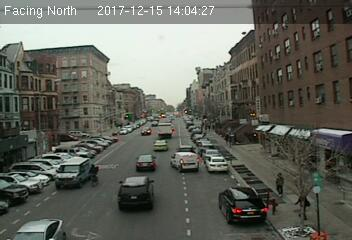bicycle: (89, 164, 100, 187)
car: (218, 186, 268, 226), (4, 218, 65, 240), (117, 176, 155, 207), (171, 151, 198, 169), (204, 156, 228, 171), (135, 155, 156, 169), (152, 138, 168, 150)
pedestrian: (275, 168, 287, 200)
truck: (55, 158, 89, 188), (158, 122, 173, 138)
